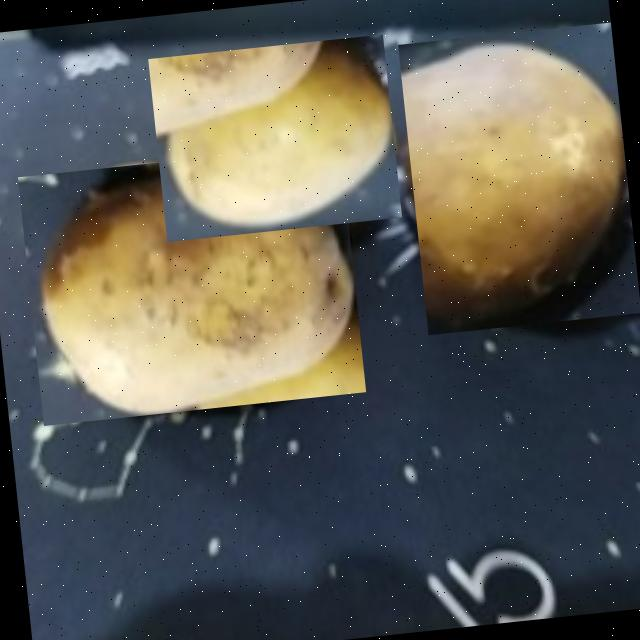Damaged potato: (18, 143, 366, 425)
Potato: (398, 22, 640, 335), (148, 34, 402, 242)
